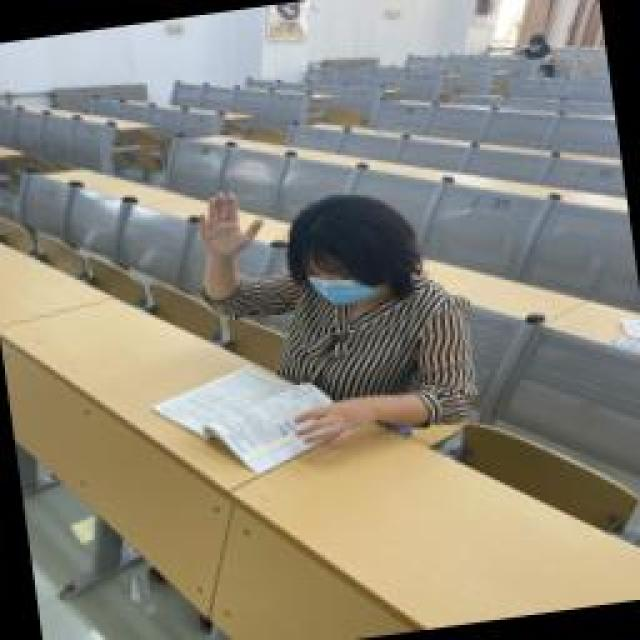study: (152, 155, 482, 467)
